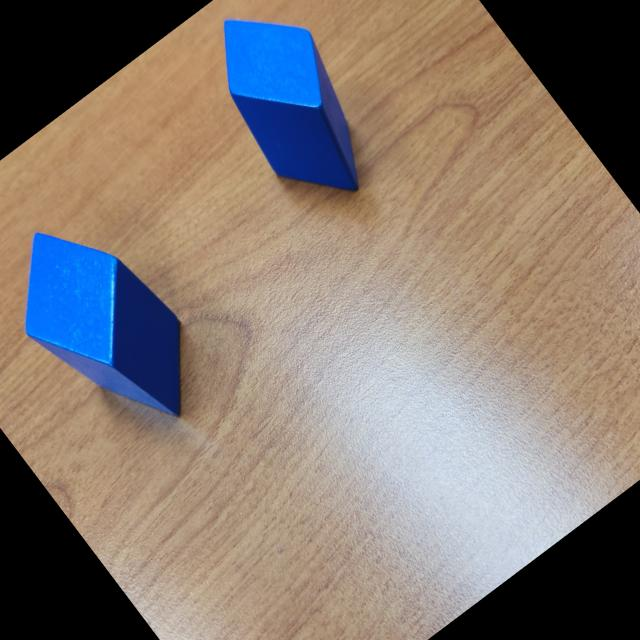blue: (0, 188, 229, 460), (179, 0, 405, 226)
